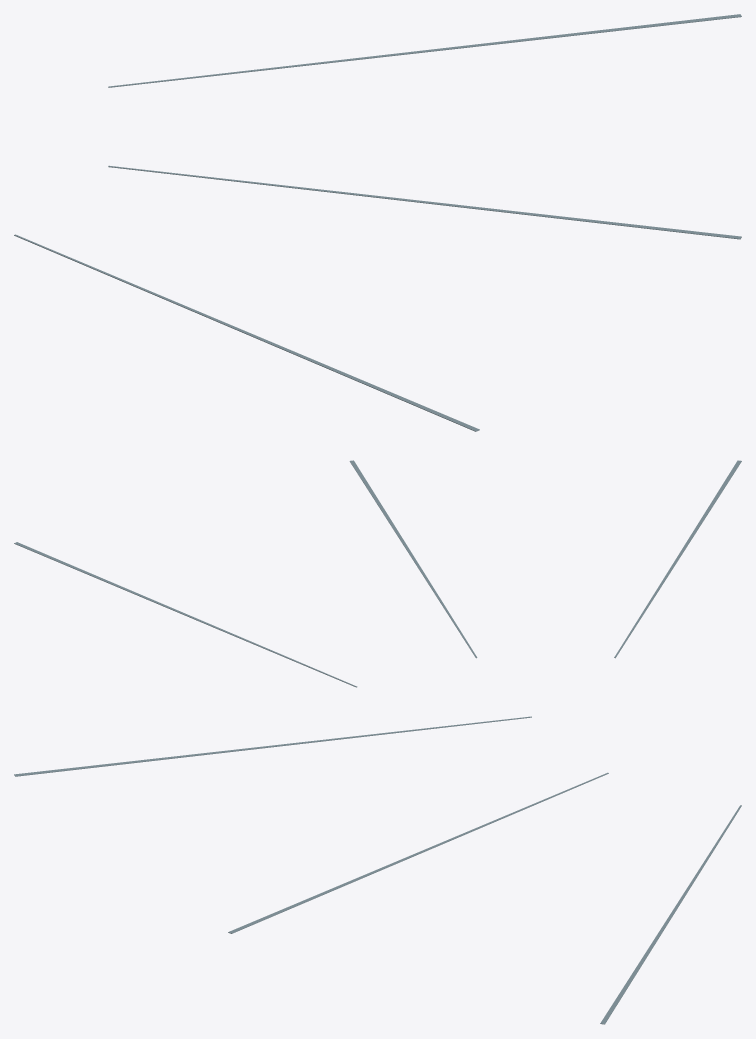
The model's file is Transit_Walk_W4_Curve90_R4_MarkPaverJoints.glb.
3 views of the same model, one above another, from view 1: azimuth 30°, elevation 25°; view 2: azimuth 150°, elevation 25°; view 3: azimuth 270°, elevation 25° (orthographic). The views are drawn at different scales.
Parts seen in each view (by area): view 1: Transit_Walk_W4_Curve90_R4_MarkPaverJoints; view 2: Transit_Walk_W4_Curve90_R4_MarkPaverJoints; view 3: Transit_Walk_W4_Curve90_R4_MarkPaverJoints.
Part boxes in pixels (x1,y1,x2,y2): Transit_Walk_W4_Curve90_R4_MarkPaverJoints: [14, 14, 741, 431]; Transit_Walk_W4_Curve90_R4_MarkPaverJoints: [14, 460, 741, 687]; Transit_Walk_W4_Curve90_R4_MarkPaverJoints: [14, 716, 741, 1024].
Bounding box in the file's own units: 5.17 × 0.003 × 5.17.
